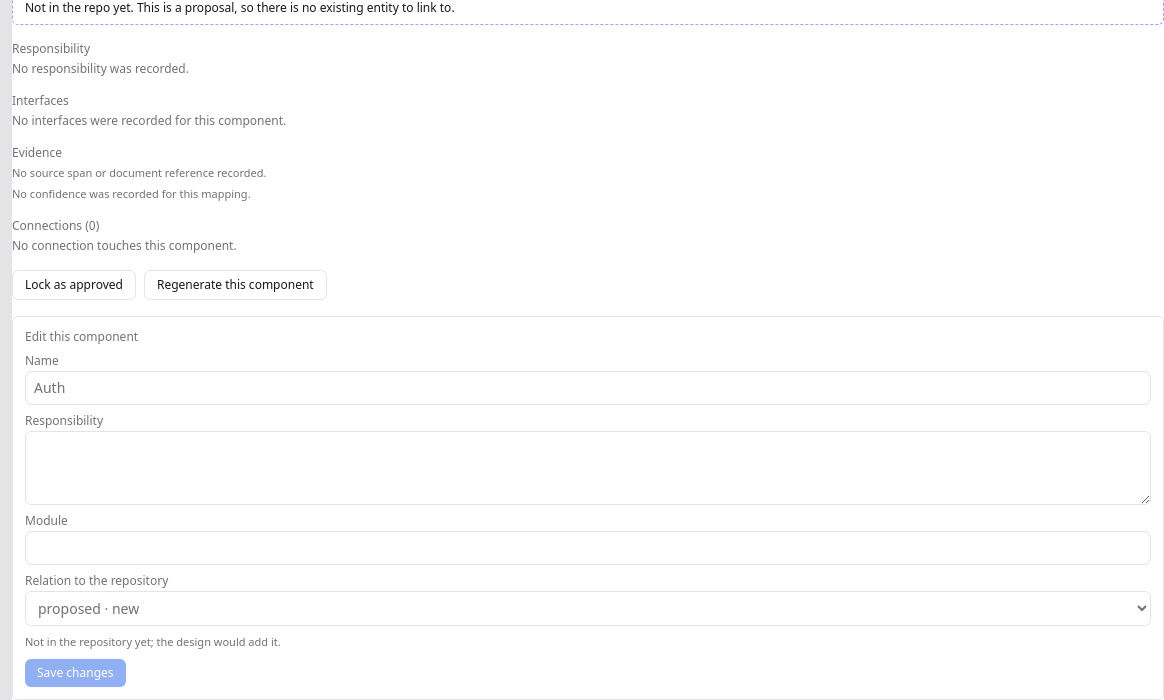
kind and mapping are a single choice › will not save an existing or modified component without a real entity id
(page scrolled)
Select "existing · reuse" in the dropdown labelled "Relation to the repository". click: (588,608)
box: [25,591,1151,626]
(page scrolled)
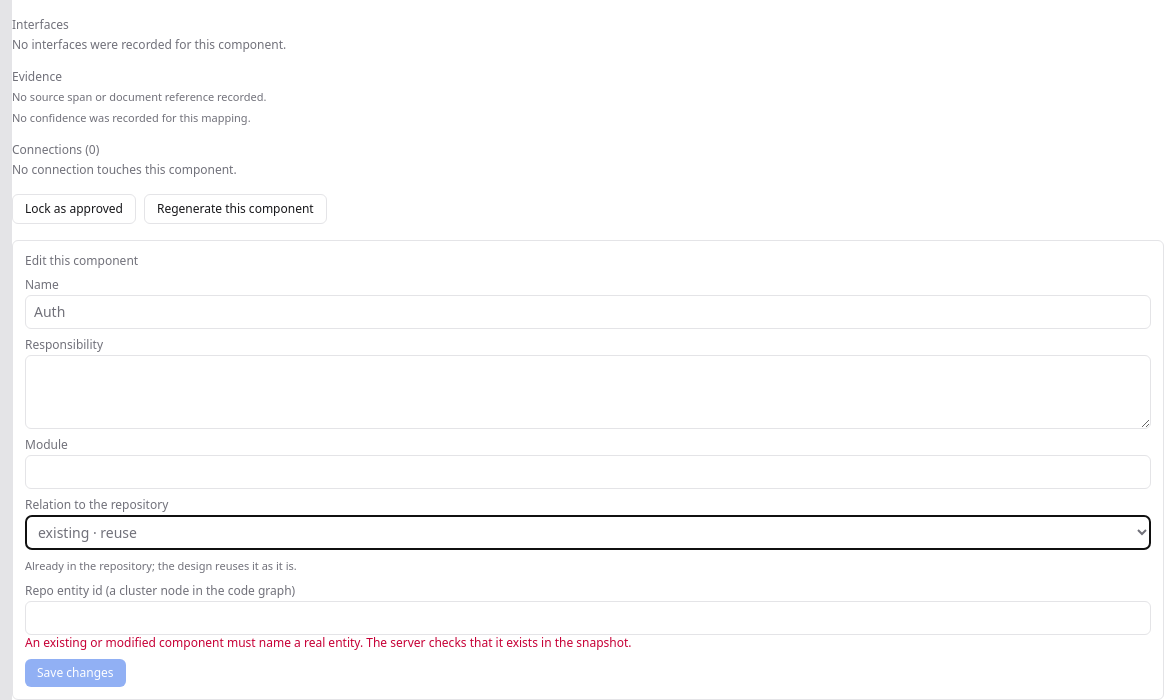
Check: the button "Save changes" is disabled, box [25,658,126,686]
Type "abc" into the field labelled "Repo entity id". click: (588,618)
box: [25,600,1151,634]
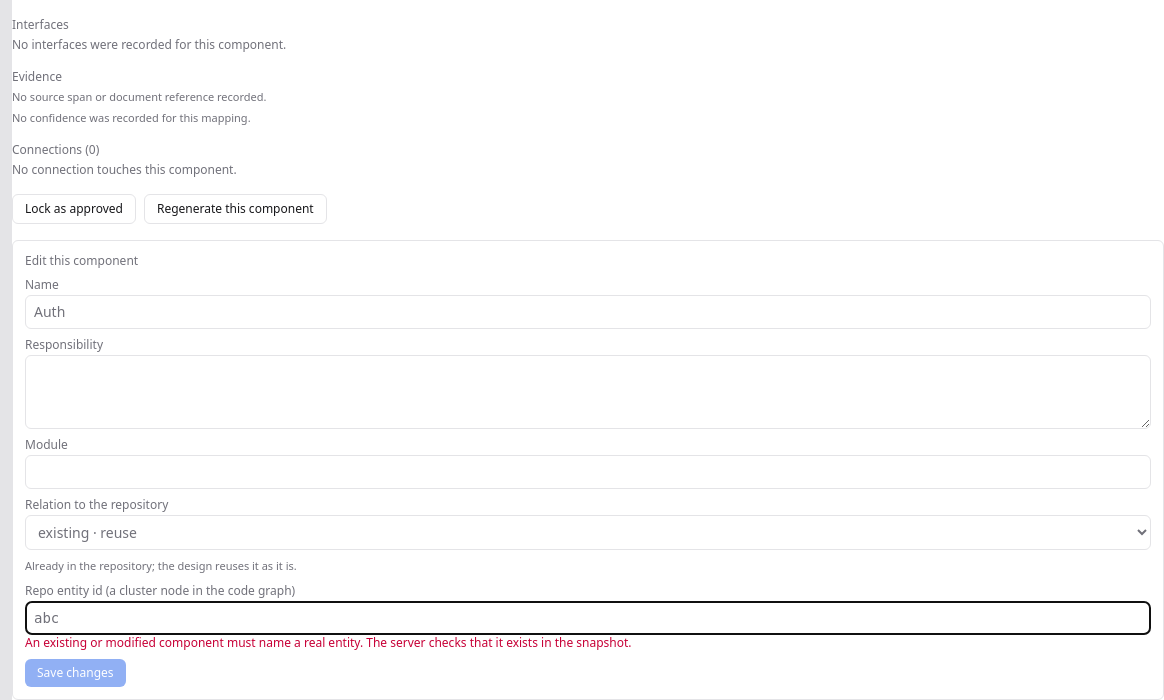
Check: the button "Save changes" is disabled, box [25,658,126,686]
Replace the text in the field labelled "Repo entity id" with "0". click: (588,618)
box: [25,600,1151,634]
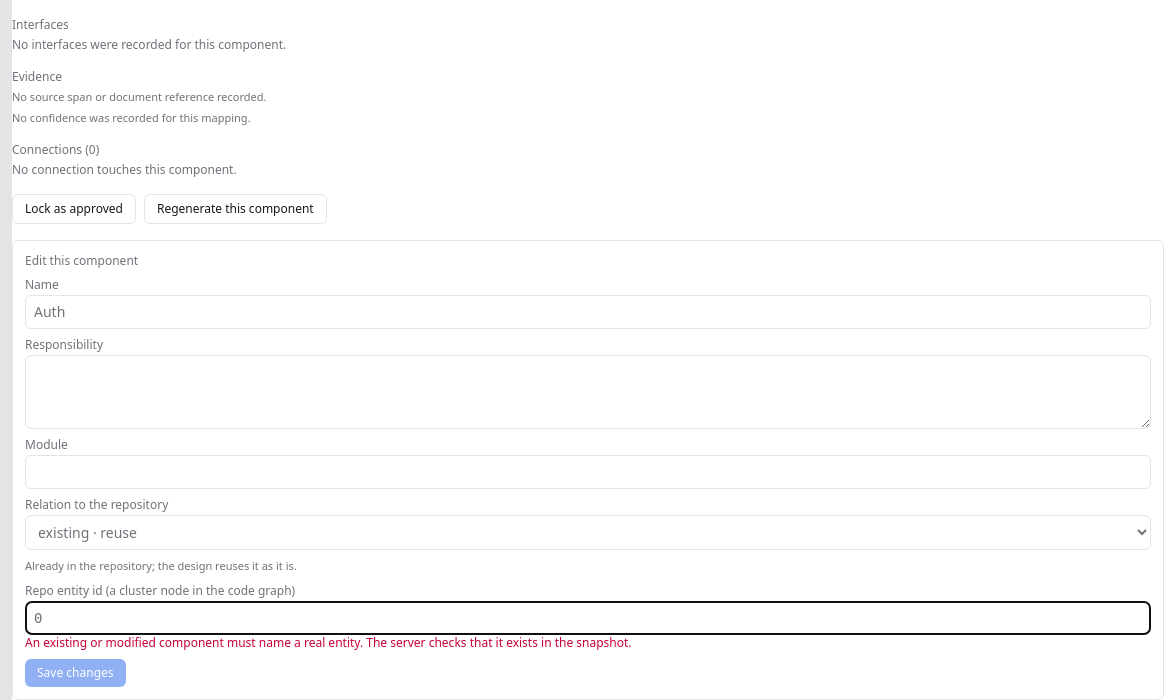
Check: the button "Save changes" is disabled, box [25,658,126,686]
Replace the text in the field labelled "Repo entity id" with "12". click: (588,618)
box: [25,600,1151,634]
(page scrolled)
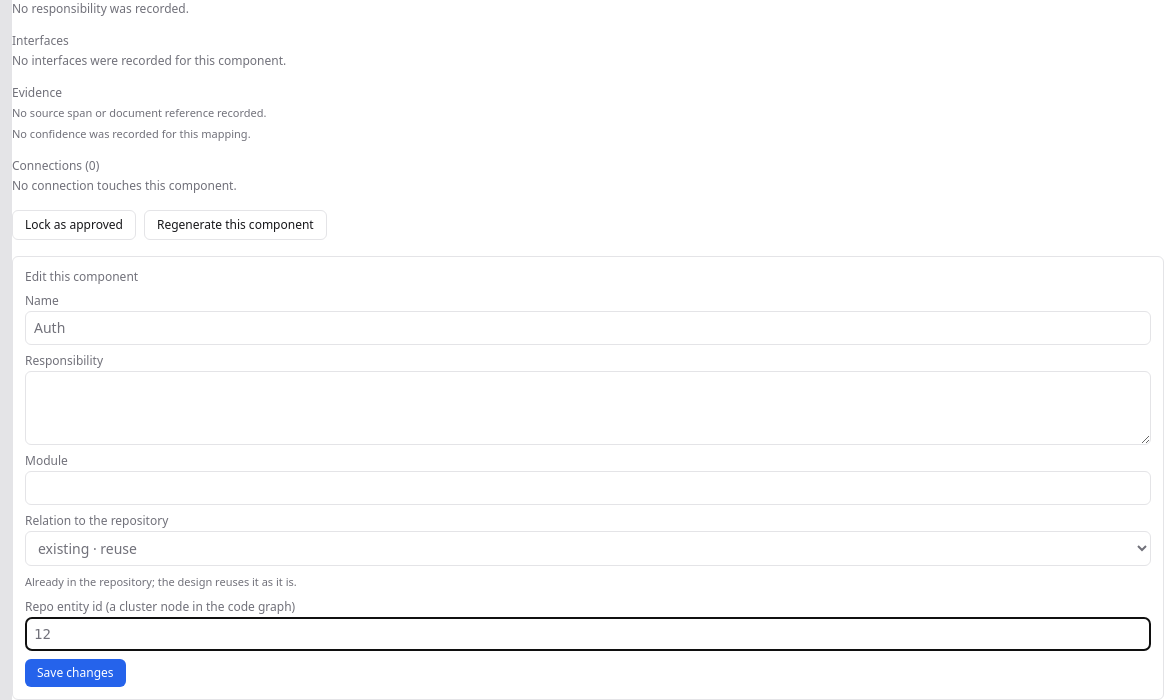
Check: the button "Save changes" is enabled, box [25,658,126,686]
